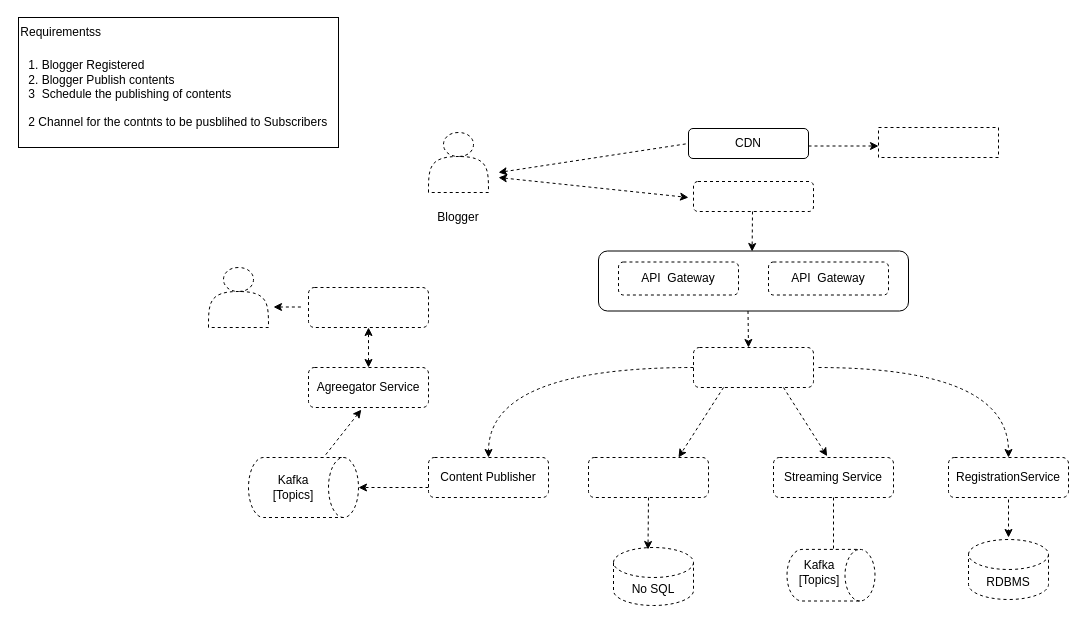
This 1086x637 diagram has some shape labels left out. Each missing label, with the centre of its shape:
BlogService: point (648, 477)
Load Balancer: point (753, 196)
Metadata: point (753, 367)
Notification Service: point (368, 307)
Static Contents: point (938, 142)
